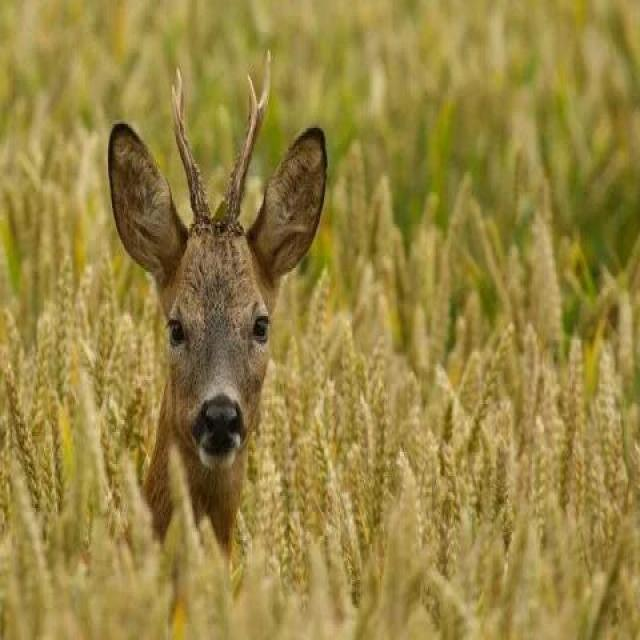deer: (68, 71, 400, 620)
